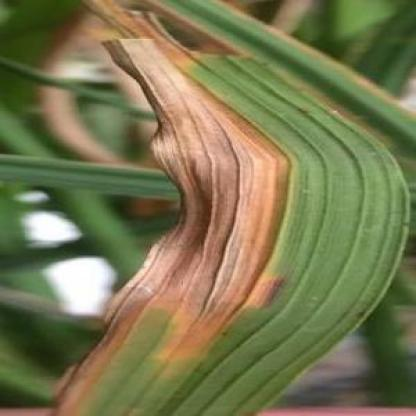Blight: (54, 2, 416, 416), (52, 8, 416, 416)
